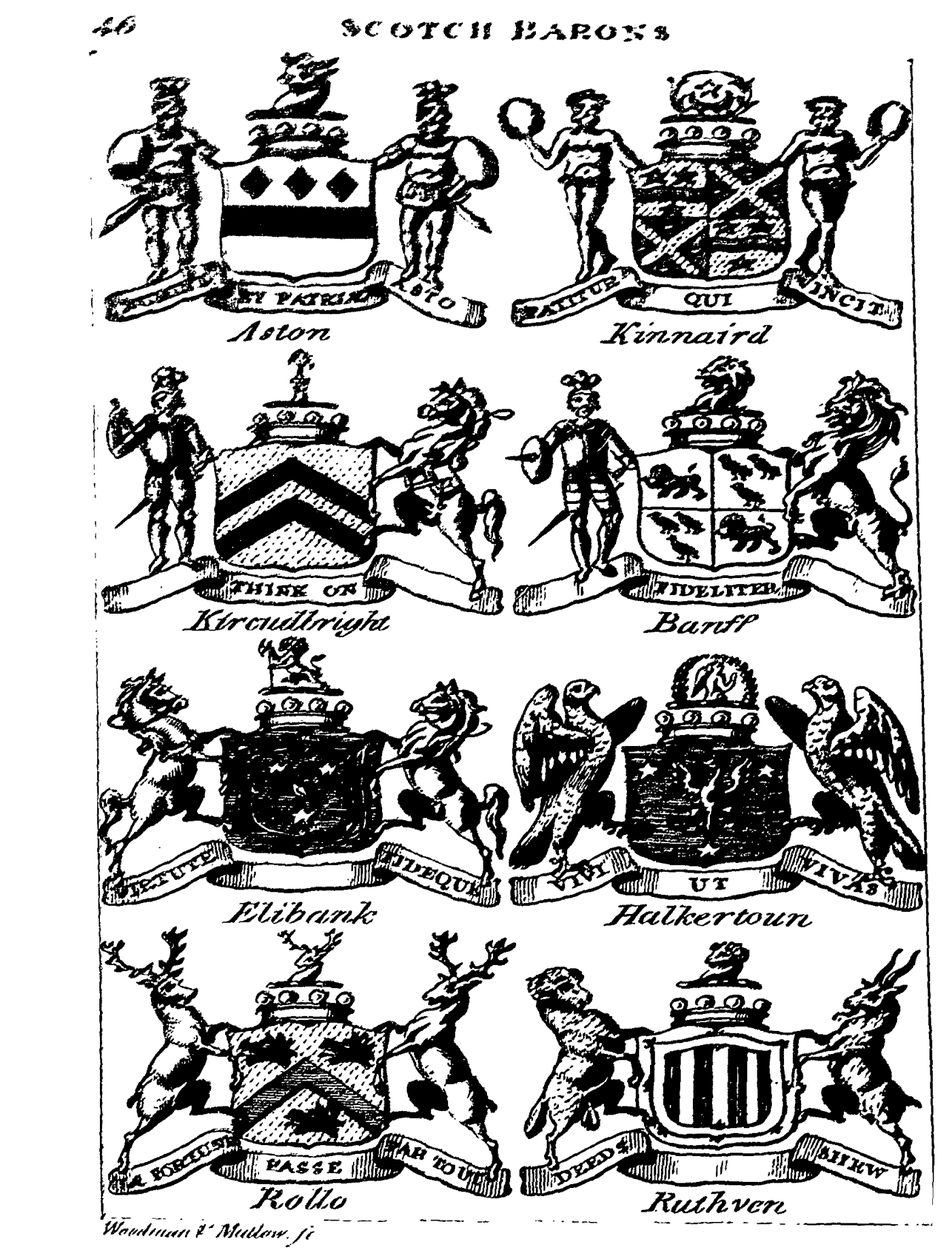coat_of_arms: (511, 341, 928, 637), (514, 641, 923, 935), (99, 354, 513, 643), (495, 57, 912, 341), (96, 57, 501, 349), (106, 921, 518, 1208), (106, 645, 508, 923), (522, 941, 924, 1212)
